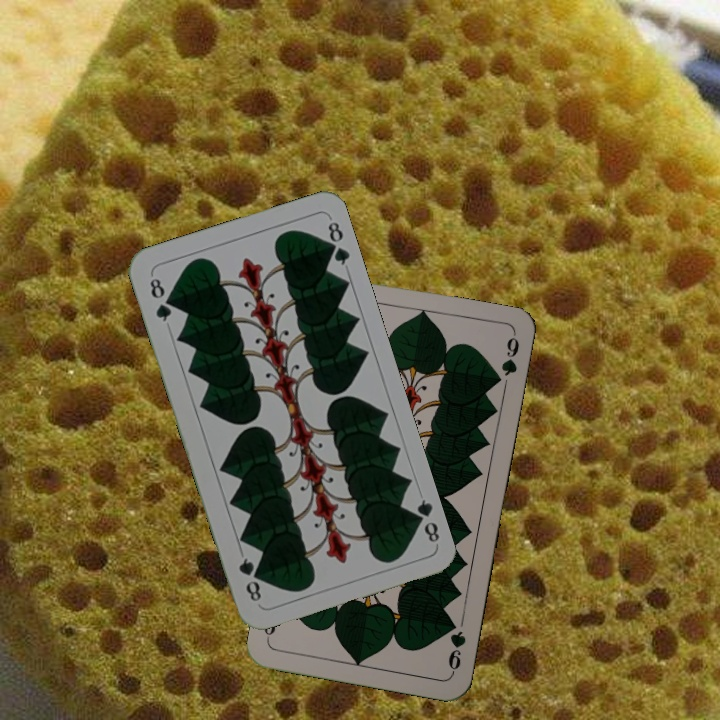G8: (407, 495, 442, 545), (145, 274, 174, 325)
G9: (444, 615, 469, 676)
